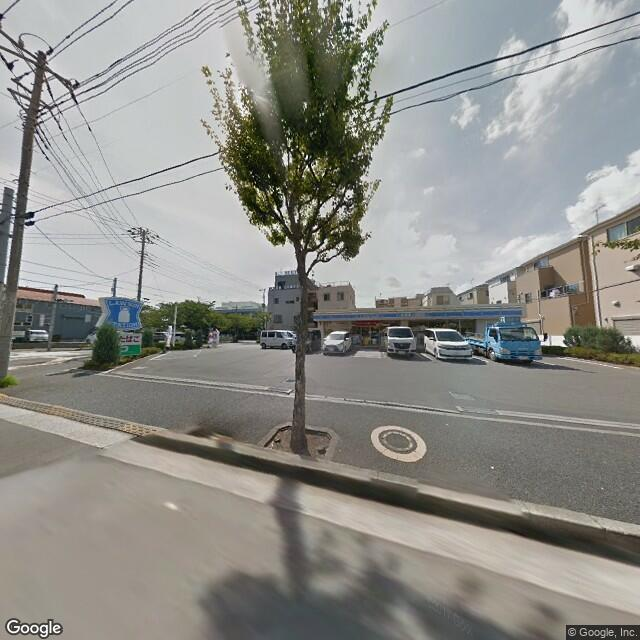lawson: (311, 305, 527, 325), (101, 294, 141, 334)
